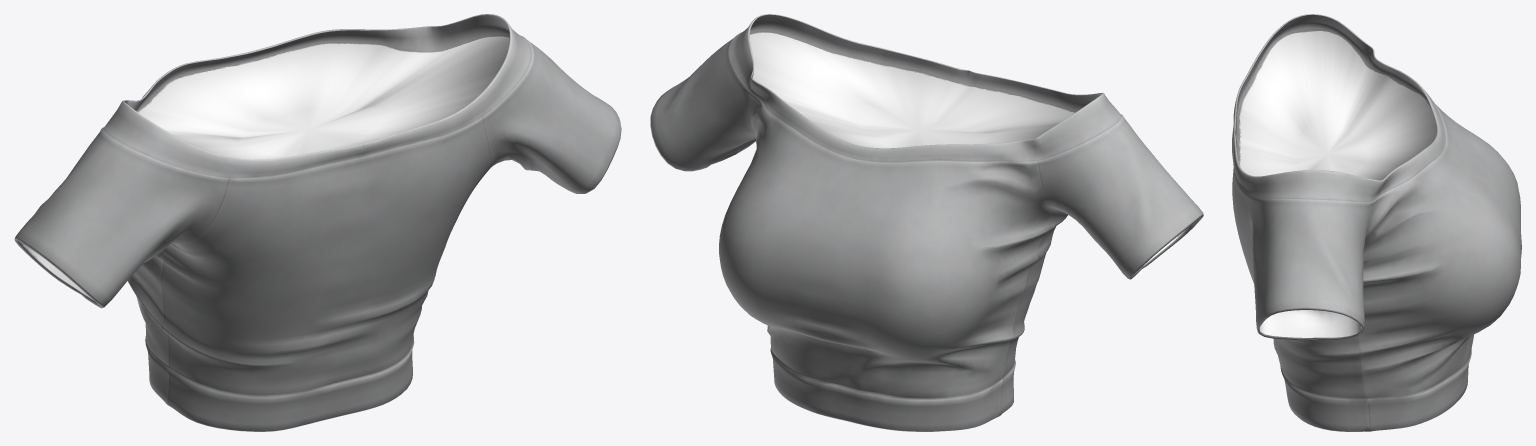
Rendered from croptop2.glb.
The picture shows the model from 3 angles, left to right: view 1: azimuth 30°, elevation 25°; view 2: azimuth 150°, elevation 25°; view 3: azimuth 270°, elevation 25°; orthographic projection. The views are drawn at different scales.
Parts seen in each view (by area): view 1: Object_2; view 2: Object_2; view 3: Object_2.
Part boxes in pixels (box(x1,y1,x2,y2)): Object_2: box(14, 14, 621, 431); Object_2: box(650, 14, 1203, 431); Object_2: box(1232, 14, 1521, 431).
Bounding box in the file's own units: 0.6111 × 0.3484 × 0.3084.
1 material, 1 textured.
